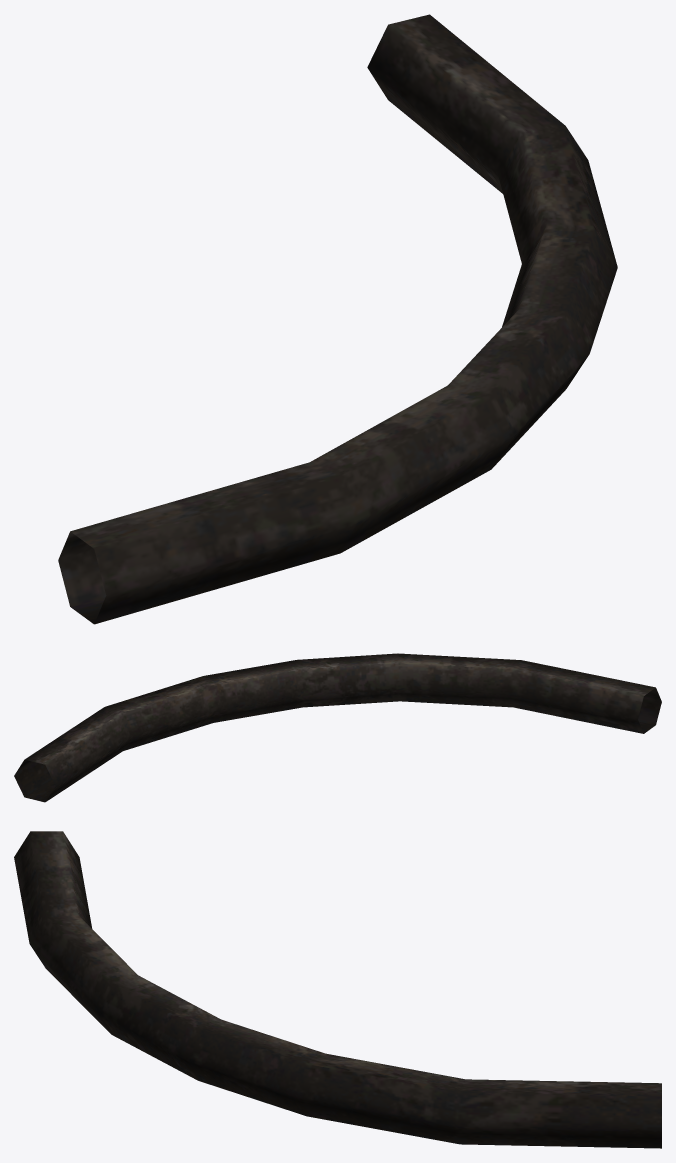
Rendered from railings_factory_bend_single_dirty.DAE.
3 views of the same model, one above another, from view 1: azimuth 30°, elevation 25°; view 2: azimuth 150°, elevation 25°; view 3: azimuth 270°, elevation 25° (orthographic). The views are drawn at different scales.
Visible parts, largest first — view 1: Object147; view 2: Object147; view 3: Object147.
Boxes of the visible parts, bbox=[...] form: Object147: bbox=[58, 14, 617, 624]; Object147: bbox=[14, 653, 661, 802]; Object147: bbox=[14, 831, 661, 1148].
Bounding box in the file's own units: 0.5903 × 0.052 × 0.5931.
